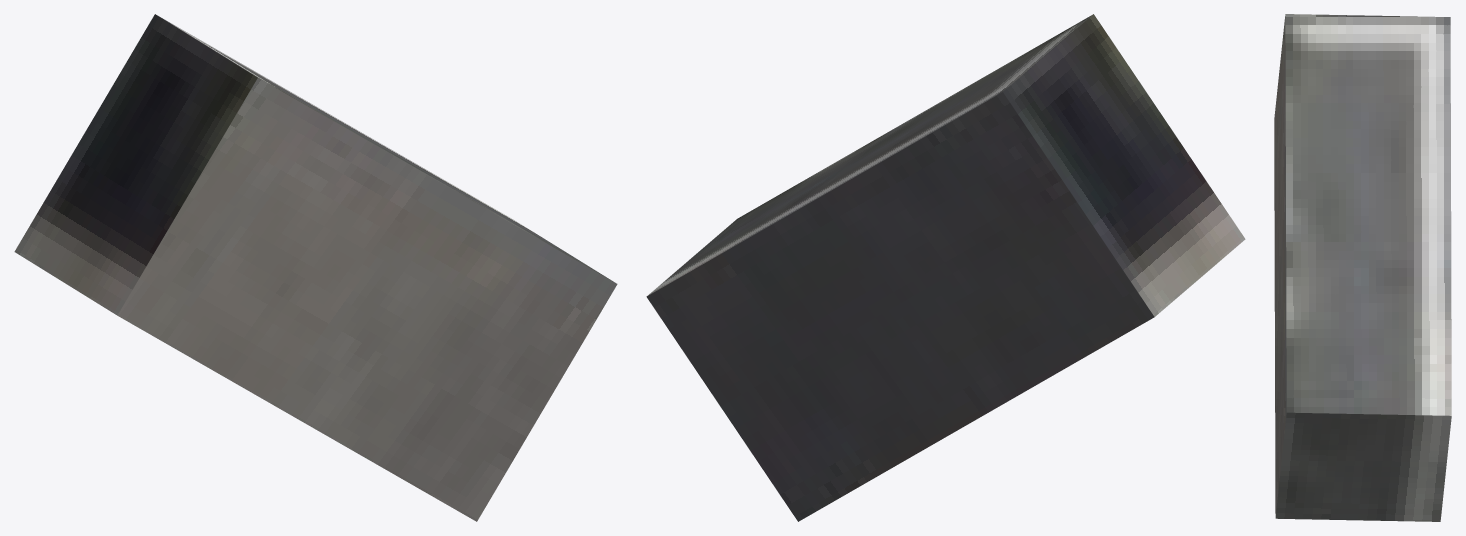
3 views of the same model, side by side, from view 1: azimuth 30°, elevation 25°; view 2: azimuth 150°, elevation 25°; view 3: azimuth 270°, elevation 25° (orthographic). The views are drawn at different scales.
Visible parts, largest first — view 1: BAG_0599100010037612; view 2: BAG_0599100010037612; view 3: BAG_0599100010037612.
Boxes of the visible parts, x1,y1,x2,y2 form: BAG_0599100010037612: [14, 14, 617, 521]; BAG_0599100010037612: [646, 14, 1245, 521]; BAG_0599100010037612: [1274, 14, 1451, 521].
Size of the model in its own units: 5.52 by 5.13 by 1.96.
2 materials, 1 textured.
